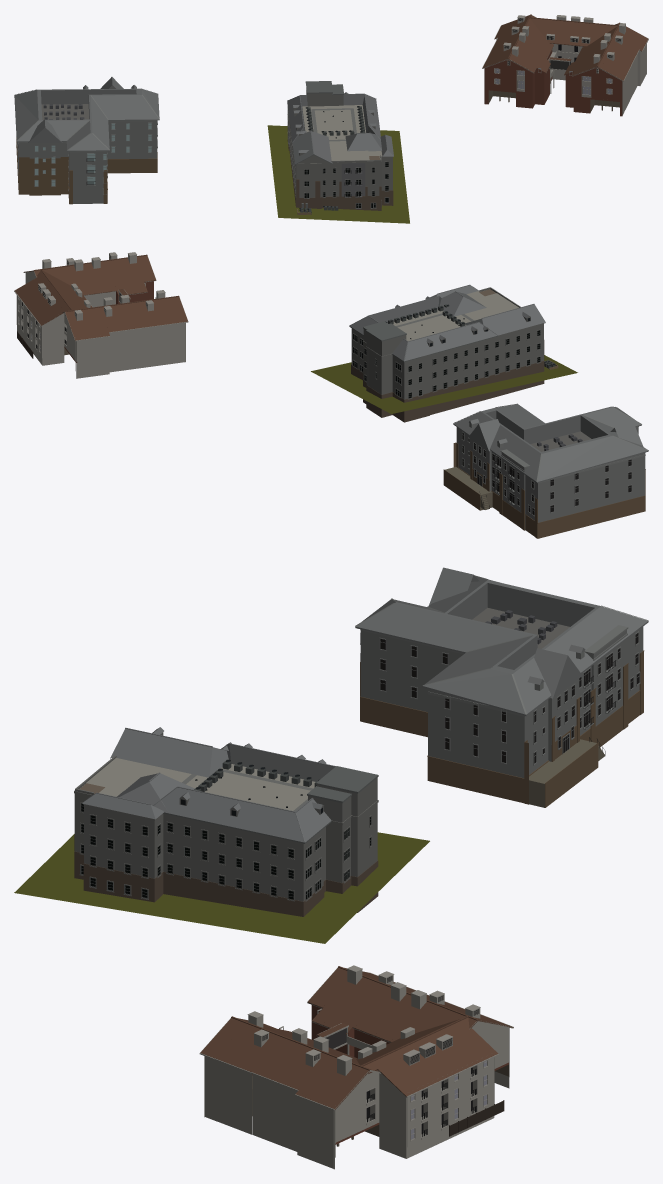
3 views of the same model, one above another, from view 1: azimuth 30°, elevation 25°; view 2: azimuth 150°, elevation 25°; view 3: azimuth 270°, elevation 25° (orthographic). The views are drawn at different scales.
Visible parts, largest first — view 1: opaque, glass; view 2: opaque, glass; view 3: opaque, glass.
Boxes of the visible parts, x1=… form: opaque: x1=14, y1=14, x2=648, y2=223; glass: x1=35, y1=18, x2=620, y2=207; opaque: x1=14, y1=252, x2=648, y2=538; glass: x1=18, y1=254, x2=631, y2=515; opaque: x1=14, y1=567, x2=648, y2=1169; glass: x1=81, y1=633, x2=639, y2=1139.
Size of the model in its own units: 187 by 20.7 by 98.25.
2 materials, 2 textured.
